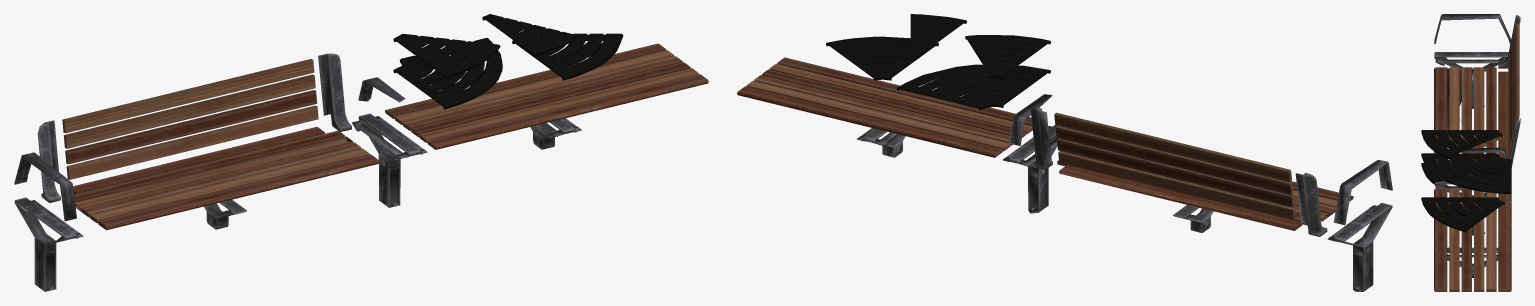
Rendered from modular_street_seating.gltf.
The picture shows the model from 3 angles, left to right: view 1: azimuth 30°, elevation 25°; view 2: azimuth 150°, elevation 25°; view 3: azimuth 270°, elevation 25°; orthographic projection. The views are drawn at different scales.
Visible parts, largest first — view 1: seat_back, seat, seat_bench, connector_90, legs_double, connector_45, legs_single, connector_60, connector_30, back_support_l, arm_rest_01, back_support_r (+3 smaller); view 2: seat_bench, seat_back, connector_90, seat, connector_60, legs_single, connector_45, legs_double, connector_30, back_support_r, arm_rest_01, back_support_l (+3 smaller); view 3: seat_bench, seat, connector_90, connector_60, connector_45, seat_back, legs_single, connector_30, arm_rest_01, back_support_r, legs_double, arm_rest_02 (+2 smaller).
Part boxes in pixels (box(x1,y1,x2,y2)): seat_back: box(62, 59, 318, 179); seat: box(73, 127, 379, 230); seat_bench: box(385, 43, 708, 149); connector_90: box(393, 37, 502, 109); legs_double: box(351, 113, 427, 207); connector_45: box(393, 33, 500, 78); legs_single: box(14, 197, 83, 291); connector_60: box(512, 33, 623, 80); connector_30: box(482, 14, 577, 56); back_support_l: box(318, 53, 351, 131); arm_rest_01: box(14, 152, 76, 221); back_support_r: box(37, 120, 60, 203); seat_bench: box(737, 57, 1032, 157); seat_back: box(1054, 112, 1295, 220); connector_90: box(896, 64, 1050, 110); seat: box(1057, 160, 1353, 230); connector_60: box(826, 36, 938, 80); legs_single: box(1327, 203, 1392, 291); connector_45: box(965, 35, 1050, 78); legs_double: box(1003, 125, 1058, 213); connector_30: box(910, 14, 966, 57); back_support_r: box(1295, 173, 1327, 236); arm_rest_01: box(1333, 160, 1392, 225); back_support_l: box(1031, 107, 1052, 169); seat_bench: box(1434, 188, 1511, 291); seat: box(1434, 67, 1508, 162); connector_90: box(1421, 153, 1511, 193); connector_60: box(1421, 197, 1504, 232); connector_45: box(1421, 130, 1502, 159); seat_back: box(1508, 23, 1519, 157); legs_single: box(1434, 52, 1508, 108); connector_30: box(1421, 163, 1500, 184); arm_rest_01: box(1434, 14, 1511, 44); back_support_r: box(1498, 15, 1520, 68); legs_double: box(1434, 180, 1486, 235); arm_rest_02: box(1461, 147, 1507, 158).
Size of what is drawn, in the model's own units: 4.34 by 0.95 by 0.7704.
5 materials, 5 textured.
